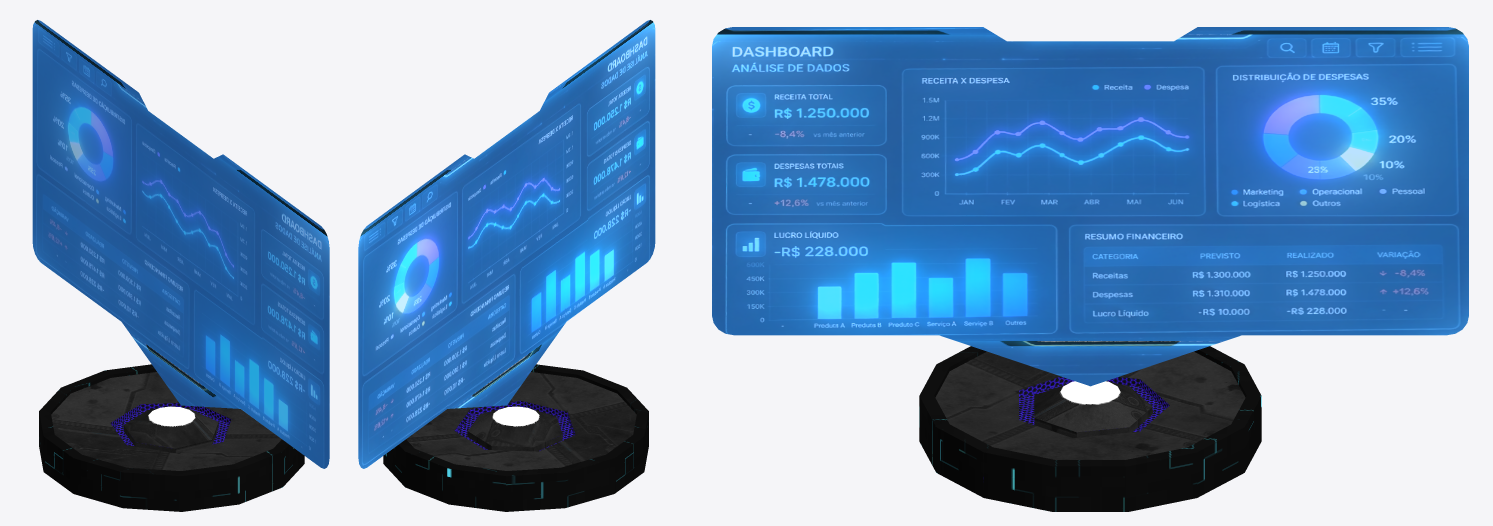
File: dashboard_3D.fbx
3 views of the same model, side by side, from view 1: azimuth 30°, elevation 25°; view 2: azimuth 150°, elevation 25°; view 3: azimuth 270°, elevation 25° (orthographic). The views are drawn at different scales.
Visible parts, largest first — view 1: holo_graficos, base; view 2: holo_graficos, base; view 3: holo_graficos, base.
Boxes of the visible parts, left/top/right/bottom form: holo_graficos: left=32, top=20, right=329, bottom=468; base: left=39, top=364, right=304, bottom=511; holo_graficos: left=358, top=20, right=655, bottom=468; base: left=383, top=364, right=648, bottom=511; holo_graficos: left=712, top=27, right=1468, bottom=386; base: left=919, top=346, right=1261, bottom=511.
Size of the model in its own units: 292 by 413 by 680.
